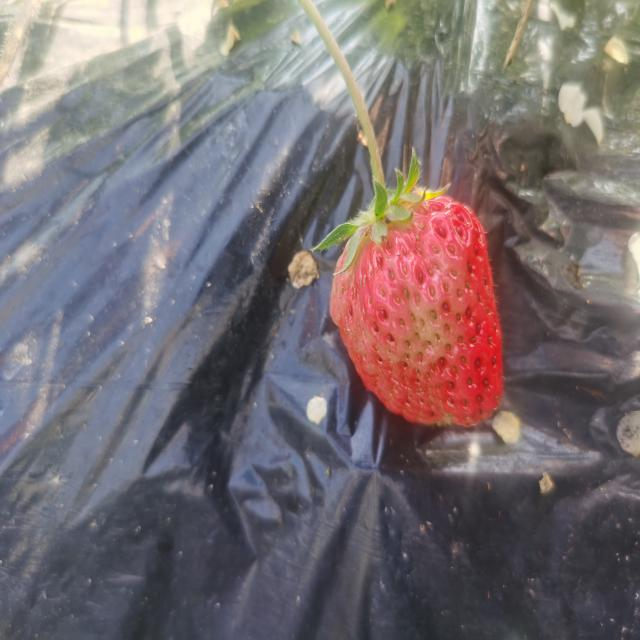stem: (354, 99, 387, 202)
strawberry: (330, 191, 502, 427)
